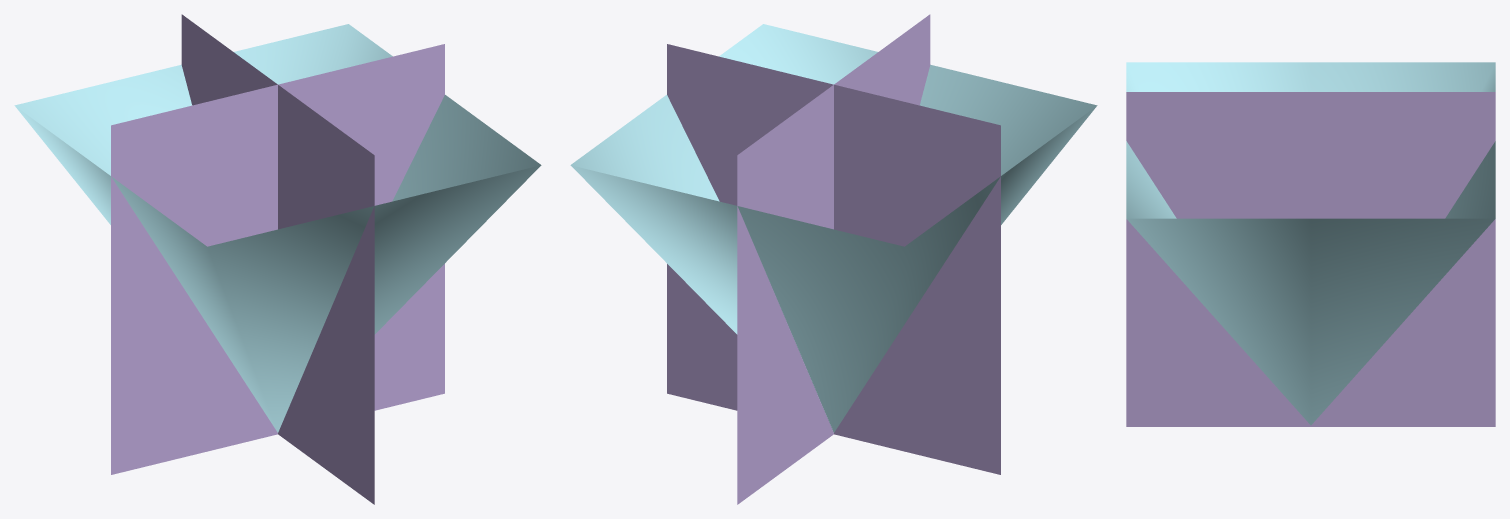
The model's file is grass_tuft_004a.glb.
The picture shows the model from 3 angles, left to right: view 1: azimuth 30°, elevation 25°; view 2: azimuth 150°, elevation 25°; view 3: azimuth 270°, elevation 25°; orthographic projection. The views are drawn at different scales.
Parts seen in each view (by area): view 1: grass_tuft_004a; view 2: grass_tuft_004a; view 3: grass_tuft_004a.
Boxes of the visible parts, x1=… form: grass_tuft_004a: x1=14, y1=14, x2=541, y2=504; grass_tuft_004a: x1=570, y1=14, x2=1097, y2=504; grass_tuft_004a: x1=1126, y1=62, x2=1495, y2=426.
Bounding box in the file's own units: 0.5745 × 0.5744 × 0.5744.
